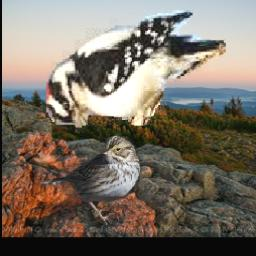Sparrow: (37, 135, 141, 226)
Woodpecker: (46, 11, 232, 134)
